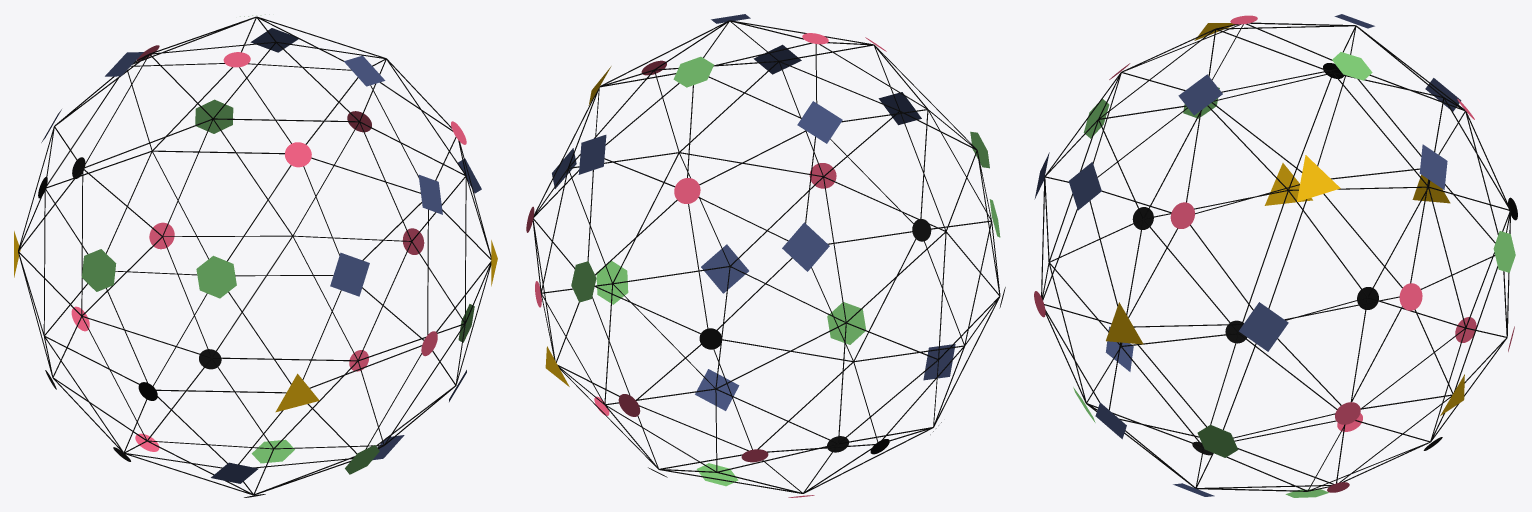
The picture shows the model from 3 angles, left to right: view 1: azimuth 30°, elevation 25°; view 2: azimuth 150°, elevation 25°; view 3: azimuth 270°, elevation 25°; orthographic projection. The views are drawn at different scales.
Visible parts, largest first — view 1: WireIsosphere.024; view 2: WireIsosphere.024; view 3: WireIsosphere.024.
Part boxes in pixels (x1,y1,x2,y2): WireIsosphere.024: (14,14,497,497); WireIsosphere.024: (526,14,1005,497); WireIsosphere.024: (1034,14,1517,497).
Bounding box in the file's own units: 3.53 × 3.46 × 3.4.
